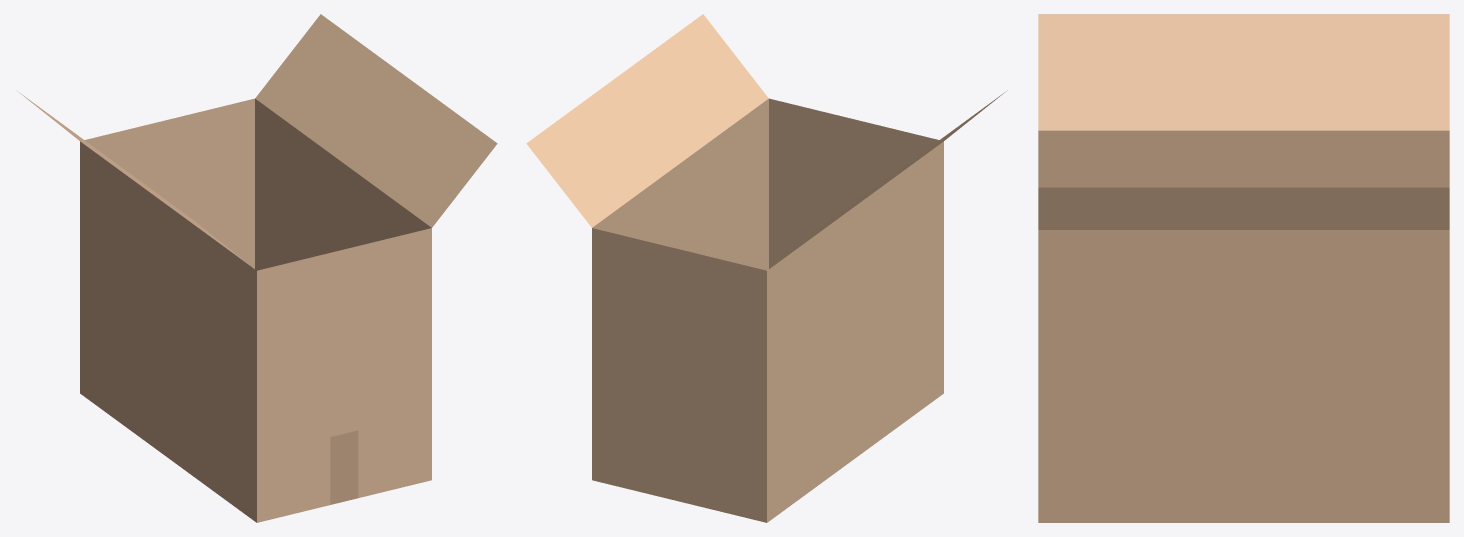
The model's file is kn-cardboard-box-open.glb.
3 renders of one model, left to right at view 1: azimuth 30°, elevation 25°; view 2: azimuth 150°, elevation 25°; view 3: azimuth 270°, elevation 25°, orthographic. The views are drawn at different scales.
Parts seen in each view (by area): view 1: cardboardBoxOpen(Clone); view 2: cardboardBoxOpen(Clone); view 3: cardboardBoxOpen(Clone).
Part boxes in pixels (x1,y1,x2,y2): cardboardBoxOpen(Clone): [16, 14, 497, 522]; cardboardBoxOpen(Clone): [526, 14, 1007, 522]; cardboardBoxOpen(Clone): [1038, 14, 1449, 522].
Size of the model in its own units: 1 by 1 by 1.
